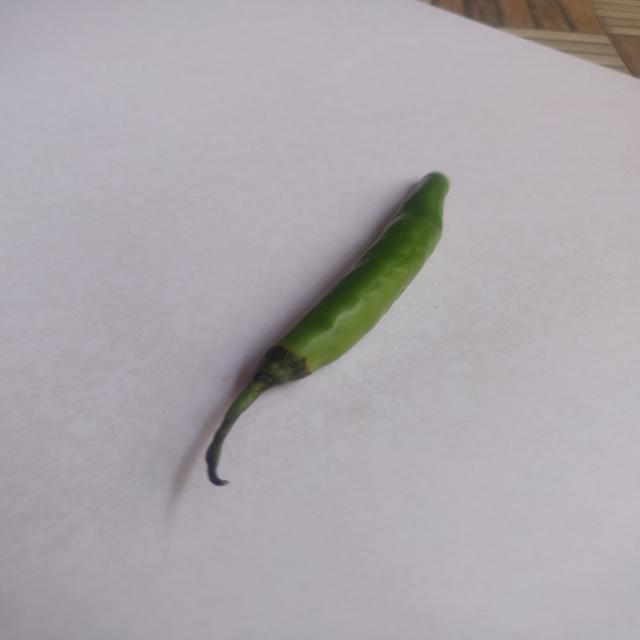Green Chilly: (170, 142, 460, 500)
